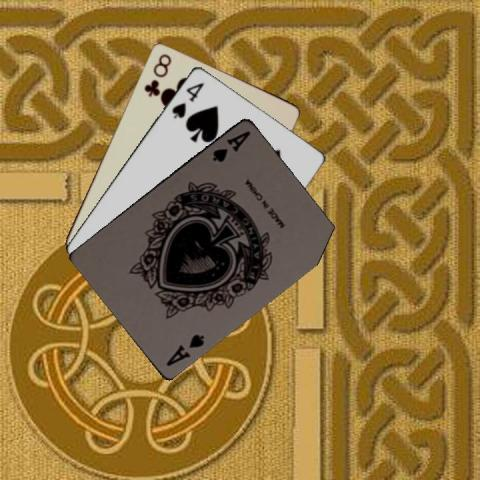4s: (169, 79, 205, 120)
8c: (140, 50, 172, 97)
As: (163, 330, 206, 368), (209, 127, 252, 163)
